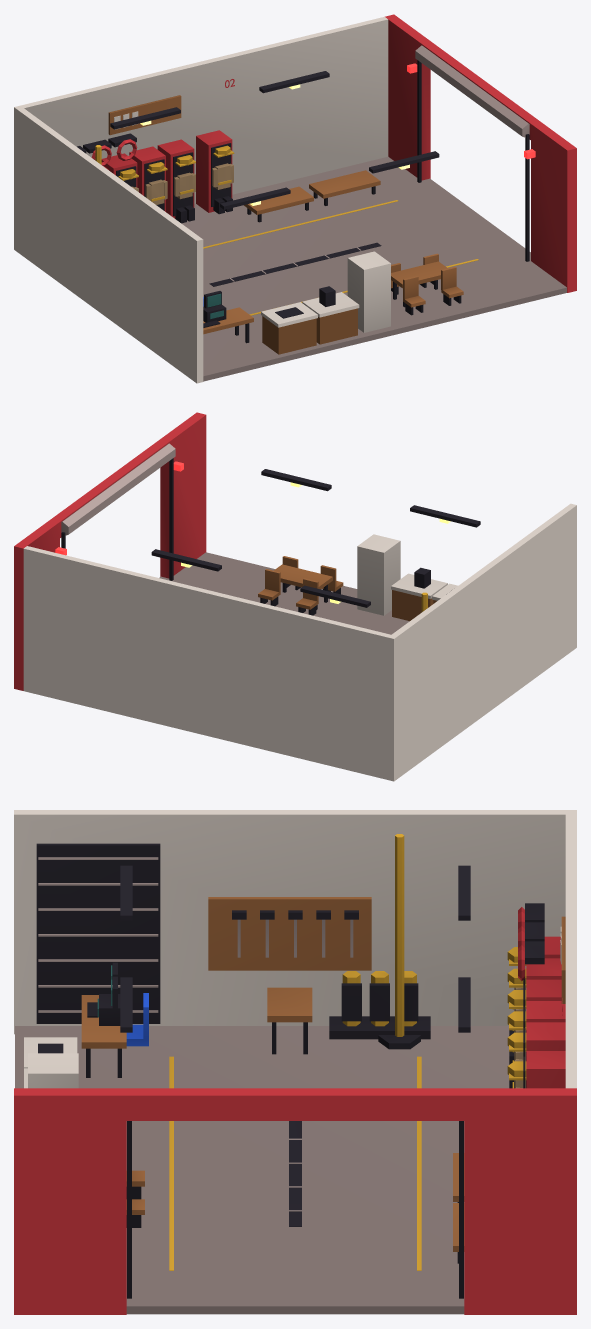
3 renders of one model, top to bottom at view 1: azimuth 30°, elevation 25°; view 2: azimuth 150°, elevation 25°; view 3: azimuth 270°, elevation 25°, orthographic. The views are drawn at different scales.
Parts seen in each view (by area): view 1: body_pal_picketWhite, body_pal_sidewalk, body_pal_survivorRed, body_pal_uiDark, body_pal_woodWarm, body_pal_schoolBusYellow, body_pal_khaki; view 2: body_pal_picketWhite, body_pal_survivorRed, body_pal_sidewalk, body_pal_uiDark, body_pal_woodWarm; view 3: body_pal_sidewalk, body_pal_picketWhite, body_pal_survivorRed, body_pal_uiDark, body_pal_woodWarm, body_pal_schoolBusYellow, body_pal_policeBlue.
Boxes of the visible parts, bbox=[...] form: body_pal_picketWhite: bbox=[14, 17, 390, 383]; body_pal_sidewalk: bbox=[181, 45, 566, 381]; body_pal_survivorRed: bbox=[91, 14, 576, 292]; body_pal_uiDark: bbox=[77, 60, 529, 343]; body_pal_woodWarm: bbox=[108, 95, 463, 354]; body_pal_schoolBusYellow: bbox=[95, 145, 478, 315]; body_pal_khaki: bbox=[131, 163, 233, 204]; body_pal_picketWhite: bbox=[23, 503, 576, 781]; body_pal_survivorRed: bbox=[14, 412, 206, 690]; body_pal_sidewalk: bbox=[61, 443, 409, 634]; body_pal_uiDark: bbox=[61, 458, 480, 615]; body_pal_woodWarm: bbox=[258, 556, 436, 621]; body_pal_sidewalk: bbox=[15, 857, 509, 1314]; body_pal_picketWhite: bbox=[14, 810, 576, 1088]; body_pal_survivorRed: bbox=[14, 907, 576, 1314]; body_pal_uiDark: bbox=[36, 843, 544, 1298]; body_pal_woodWarm: bbox=[81, 897, 565, 1251]; body_pal_schoolBusYellow: bbox=[169, 834, 526, 1270]; body_pal_policeBlue: bbox=[126, 993, 148, 1046].
Size of the model in its own units: 12 by 4.3 by 10.
